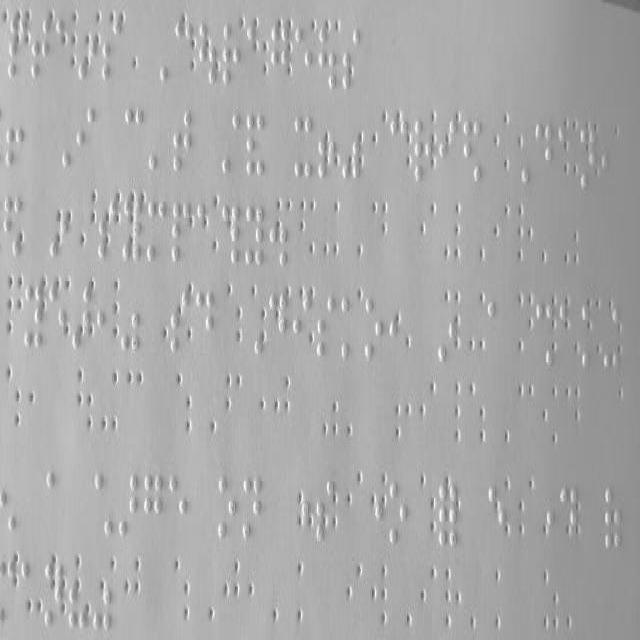braiile: (44, 468, 68, 541), (142, 472, 164, 546), (216, 471, 237, 542), (388, 116, 408, 190), (168, 472, 188, 546), (242, 472, 262, 546), (486, 298, 508, 364), (293, 114, 313, 184), (388, 479, 408, 548), (172, 108, 192, 176), (364, 293, 384, 360), (146, 198, 166, 264), (170, 198, 190, 264), (244, 203, 264, 268), (76, 104, 94, 176), (270, 23, 288, 92), (195, 290, 213, 359), (294, 24, 312, 92), (124, 108, 142, 176), (24, 284, 42, 352), (48, 284, 66, 352), (222, 20, 240, 87), (317, 293, 335, 360), (534, 122, 552, 188), (292, 296, 310, 362), (341, 296, 359, 362), (414, 118, 431, 184), (31, 18, 49, 80), (102, 20, 120, 82), (174, 22, 192, 84)
